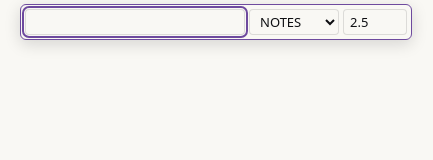
Test case: the in-place editor sits at the click, reads either way and places on Enter
Later steps or results of the test are not shown.
Type "D1 عدده 3 في A-101" into the field named "Text" at {"x": 135, "y": 22}, box [25,9,245,35]
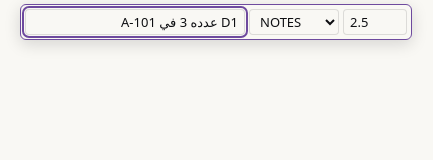
Check: the field named "Text" has attribute dir="rtl", box [25,9,245,35]
